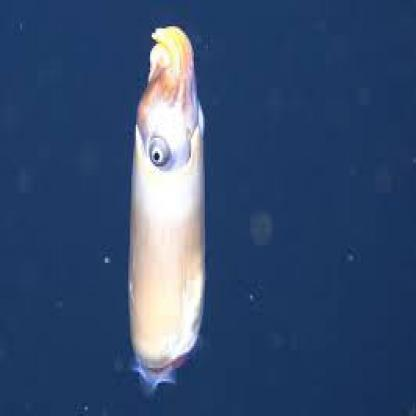colossal_squid: (105, 18, 217, 394)
